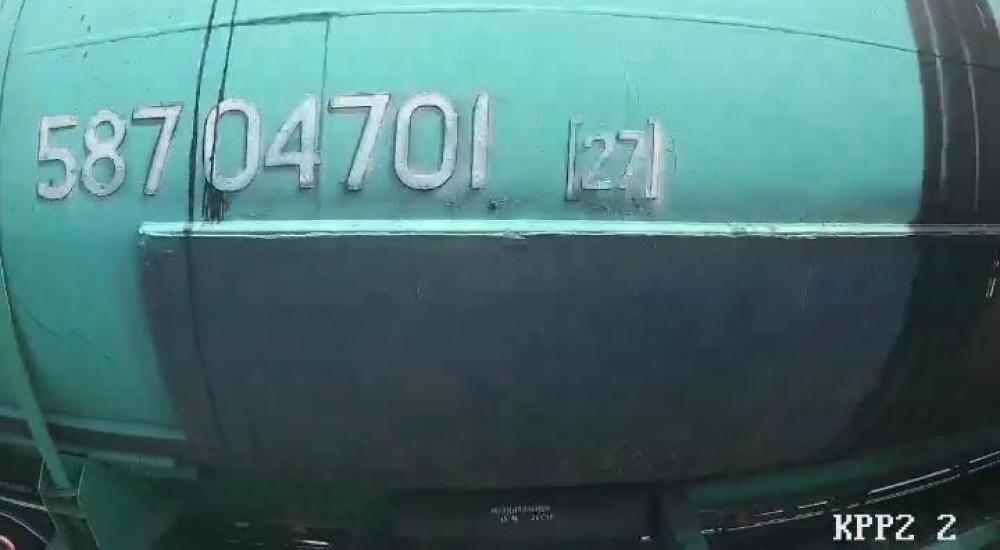Wagon-number: (36, 87, 495, 206)
